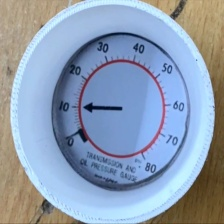gauge: (52, 32, 190, 191)
